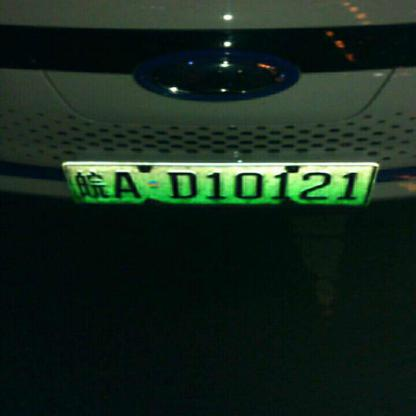lp: (65, 166, 375, 204)
